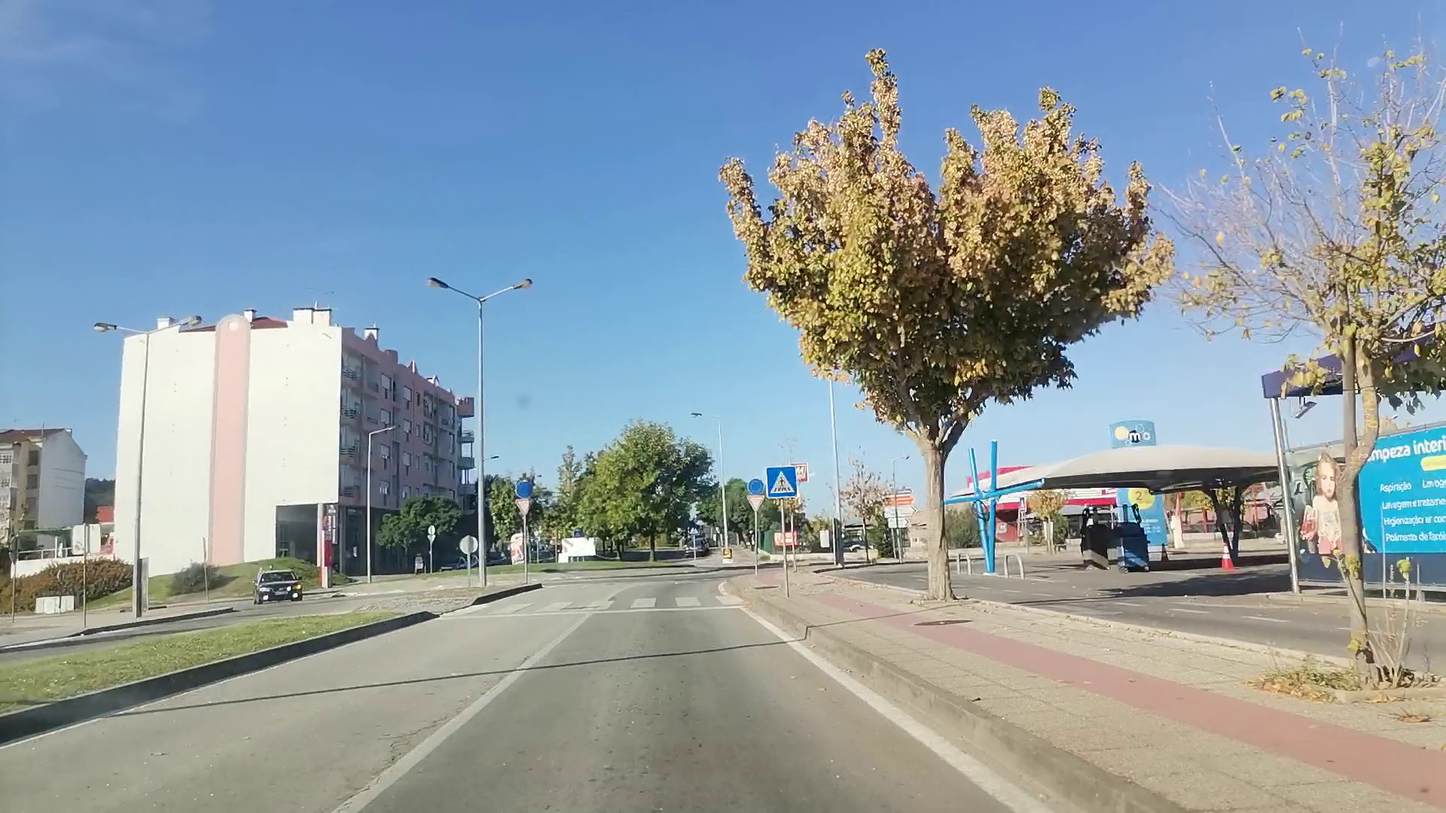Stairs: (460, 595, 739, 618)
